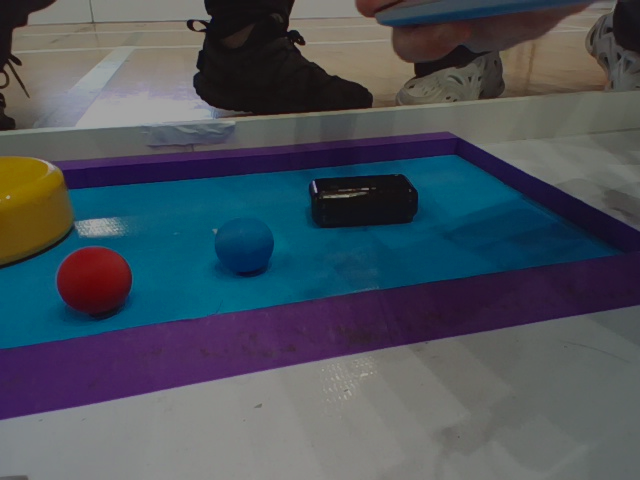black: (298, 175, 424, 227)
blue: (210, 216, 276, 271)
kuang: (1, 130, 640, 420)
red: (57, 246, 136, 316)
yellow: (1, 155, 75, 268)
